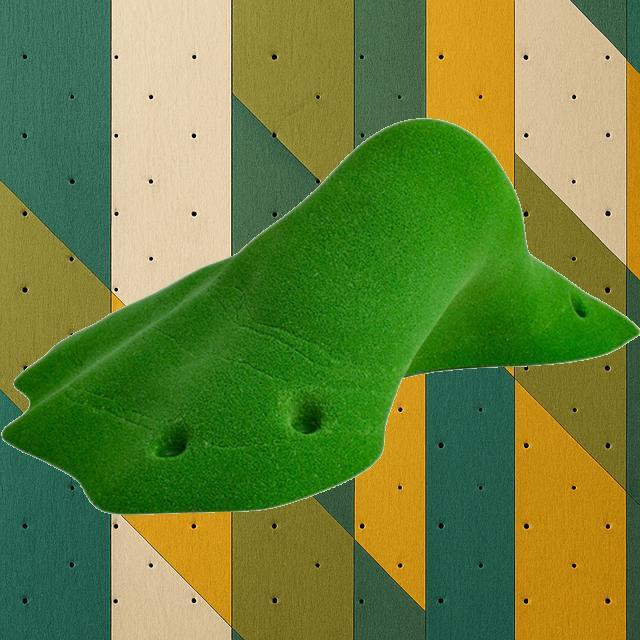Jug: (1, 117, 638, 516)
